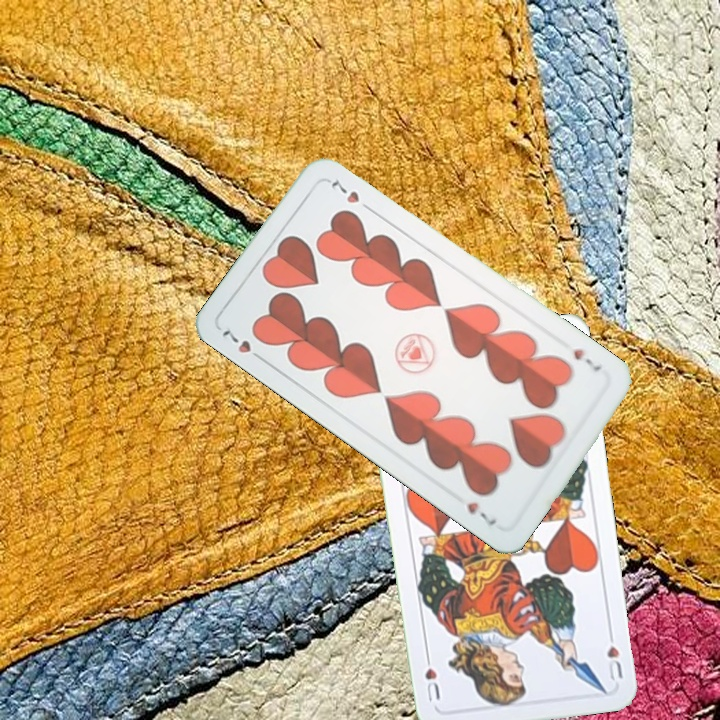H7: (218, 325, 268, 364), (569, 344, 604, 375)
HU: (603, 625, 625, 683)
